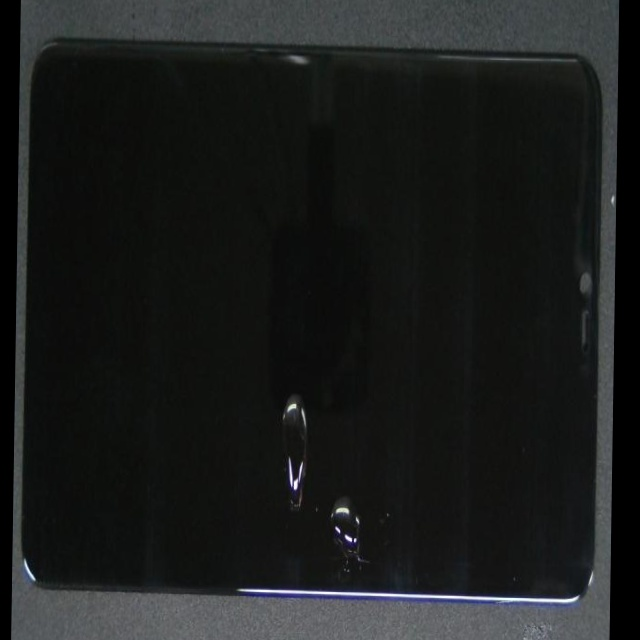oil: (197, 262, 541, 640), (169, 199, 450, 588)
